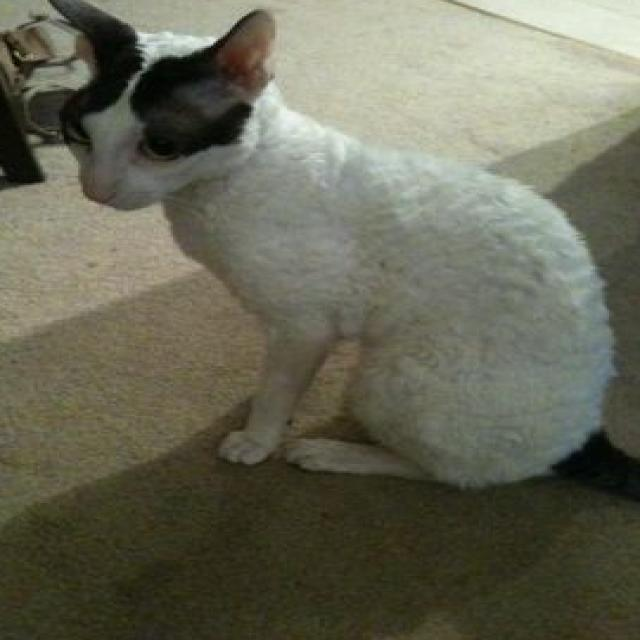Cornish Rex: (31, 0, 640, 510)
